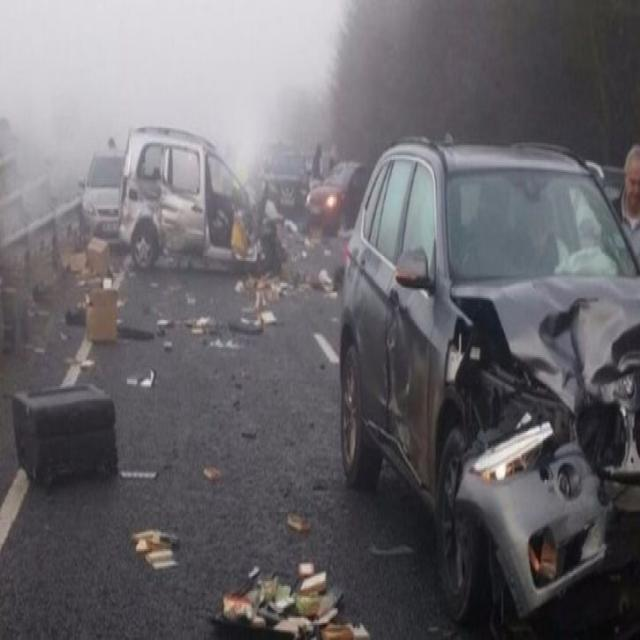accident: (340, 143, 640, 622), (119, 126, 280, 268)
